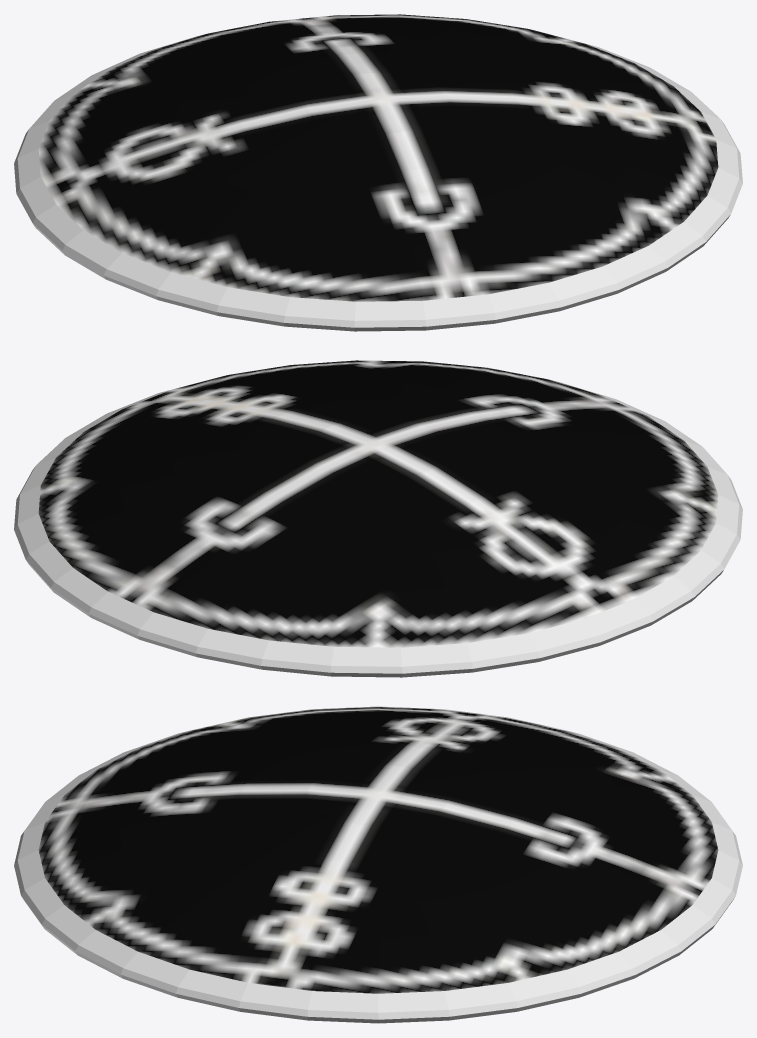
File: Shield.glb
3 renders of one model, top to bottom at view 1: azimuth 30°, elevation 25°; view 2: azimuth 150°, elevation 25°; view 3: azimuth 270°, elevation 25°, orthographic.
Visible parts, largest first — view 1: Shield Mesh; view 2: Shield Mesh; view 3: Shield Mesh.
Boxes of the visible parts, bbox=[...] form: Shield Mesh: bbox=[14, 14, 742, 331]; Shield Mesh: bbox=[14, 360, 742, 677]; Shield Mesh: bbox=[14, 706, 742, 1023].
Bounding box in the file's own units: 0.7925 × 0.0948 × 0.7925.
3 materials, 1 textured.
